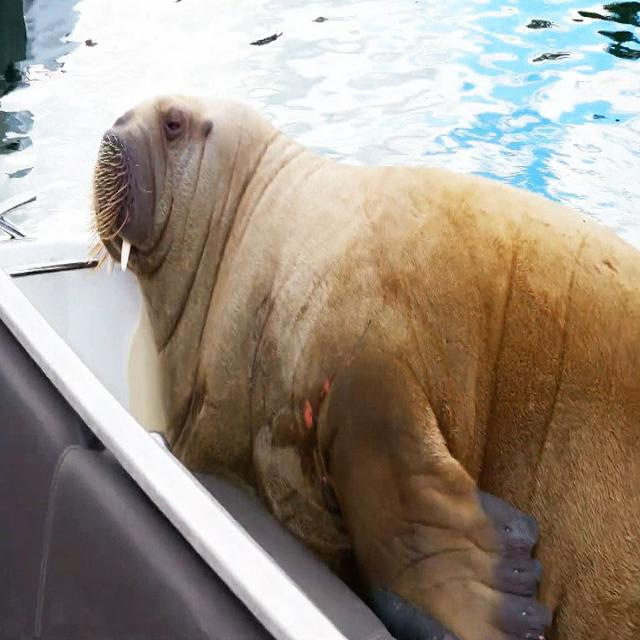walrus: (54, 78, 602, 610)
